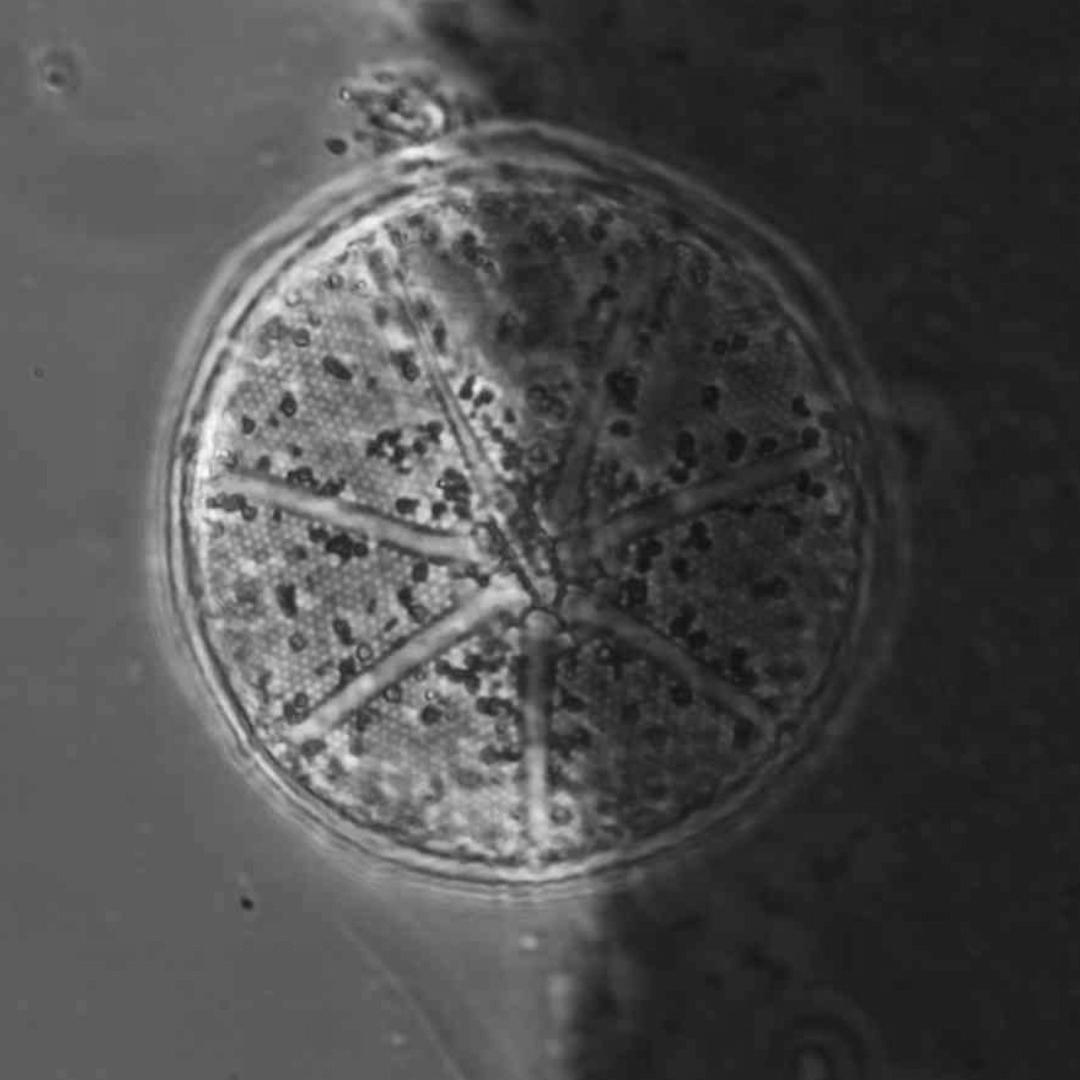asteromphalus_hyalinus: (178, 165, 878, 872)
